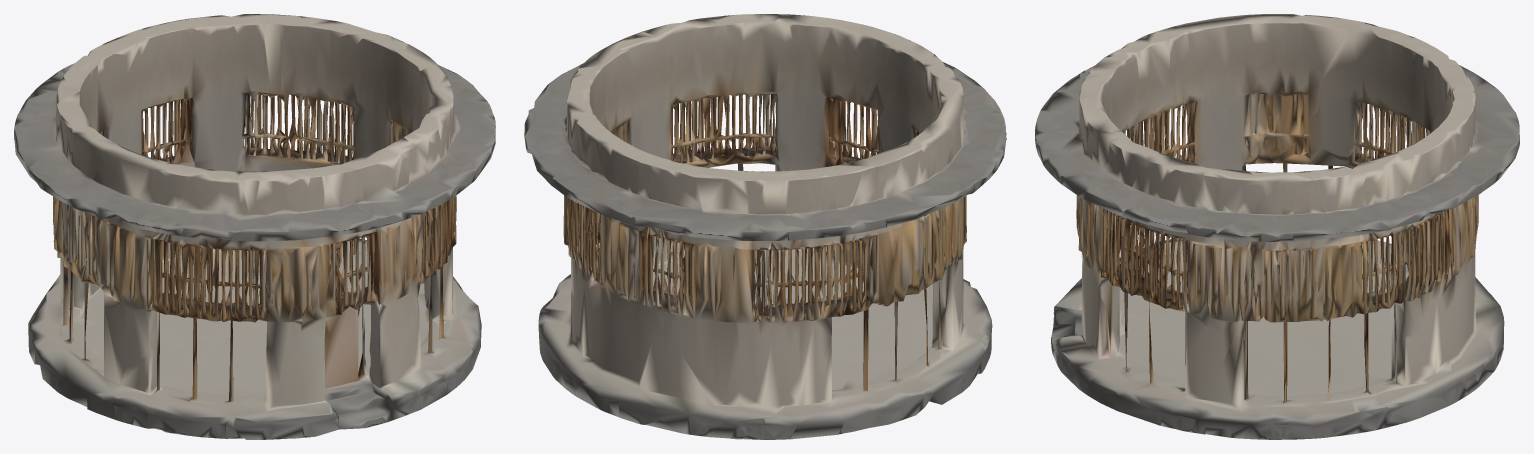
File: mod_house.glb
3 views of the same model, side by side, from view 1: azimuth 30°, elevation 25°; view 2: azimuth 150°, elevation 25°; view 3: azimuth 270°, elevation 25° (orthographic).
Parts seen in each view (by area): view 1: tripo_node_caf0e444-353f-4d0d-8c3d-1ef68d74b490; view 2: tripo_node_caf0e444-353f-4d0d-8c3d-1ef68d74b490; view 3: tripo_node_caf0e444-353f-4d0d-8c3d-1ef68d74b490.
Boxes of the visible parts, left/top/right/bottom form: tripo_node_caf0e444-353f-4d0d-8c3d-1ef68d74b490: left=14, top=14, right=495, bottom=439; tripo_node_caf0e444-353f-4d0d-8c3d-1ef68d74b490: left=524, top=14, right=1006, bottom=439; tripo_node_caf0e444-353f-4d0d-8c3d-1ef68d74b490: left=1035, top=14, right=1519, bottom=439.
Size of the model in its own units: 0.7508 by 0.42 by 0.748.
